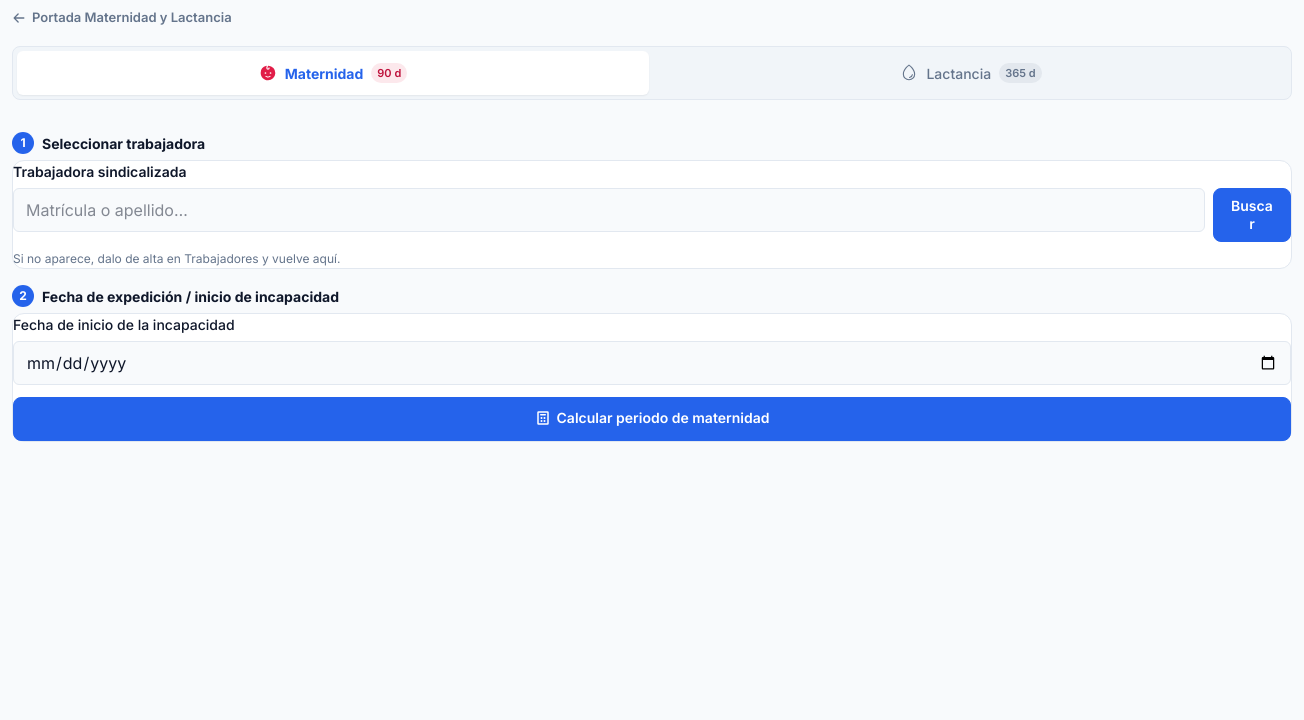
MaternityTool › muestra error si se intenta calcular con campo de fecha vacío
The image size is (1304, 720).
Click the button "Calcular periodo de maternidad".
click(652, 419)  # box [13,397,1291,441]
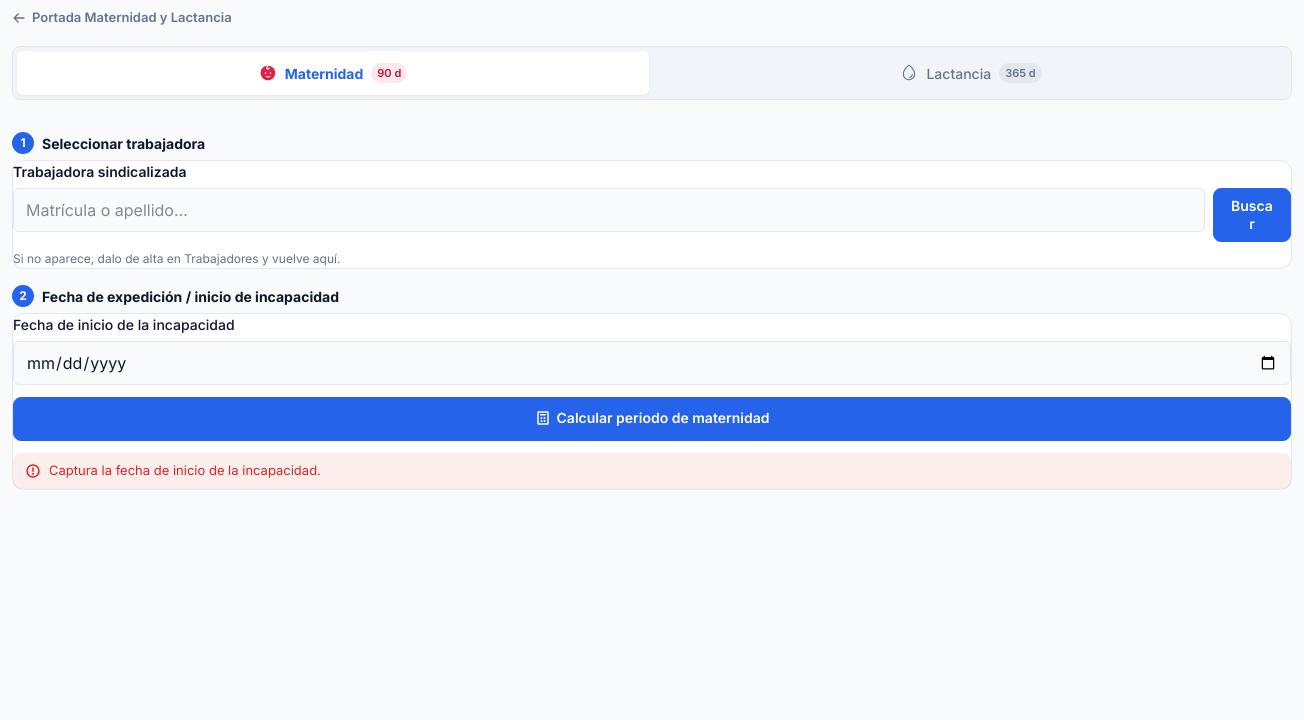
Result: the message "Captura la fecha de inicio de la incapacidad." is shown at [13,453,1291,489]
Result: the text "Captura la fecha de inicio de la incapacidad." is shown at [49,461,321,481]
